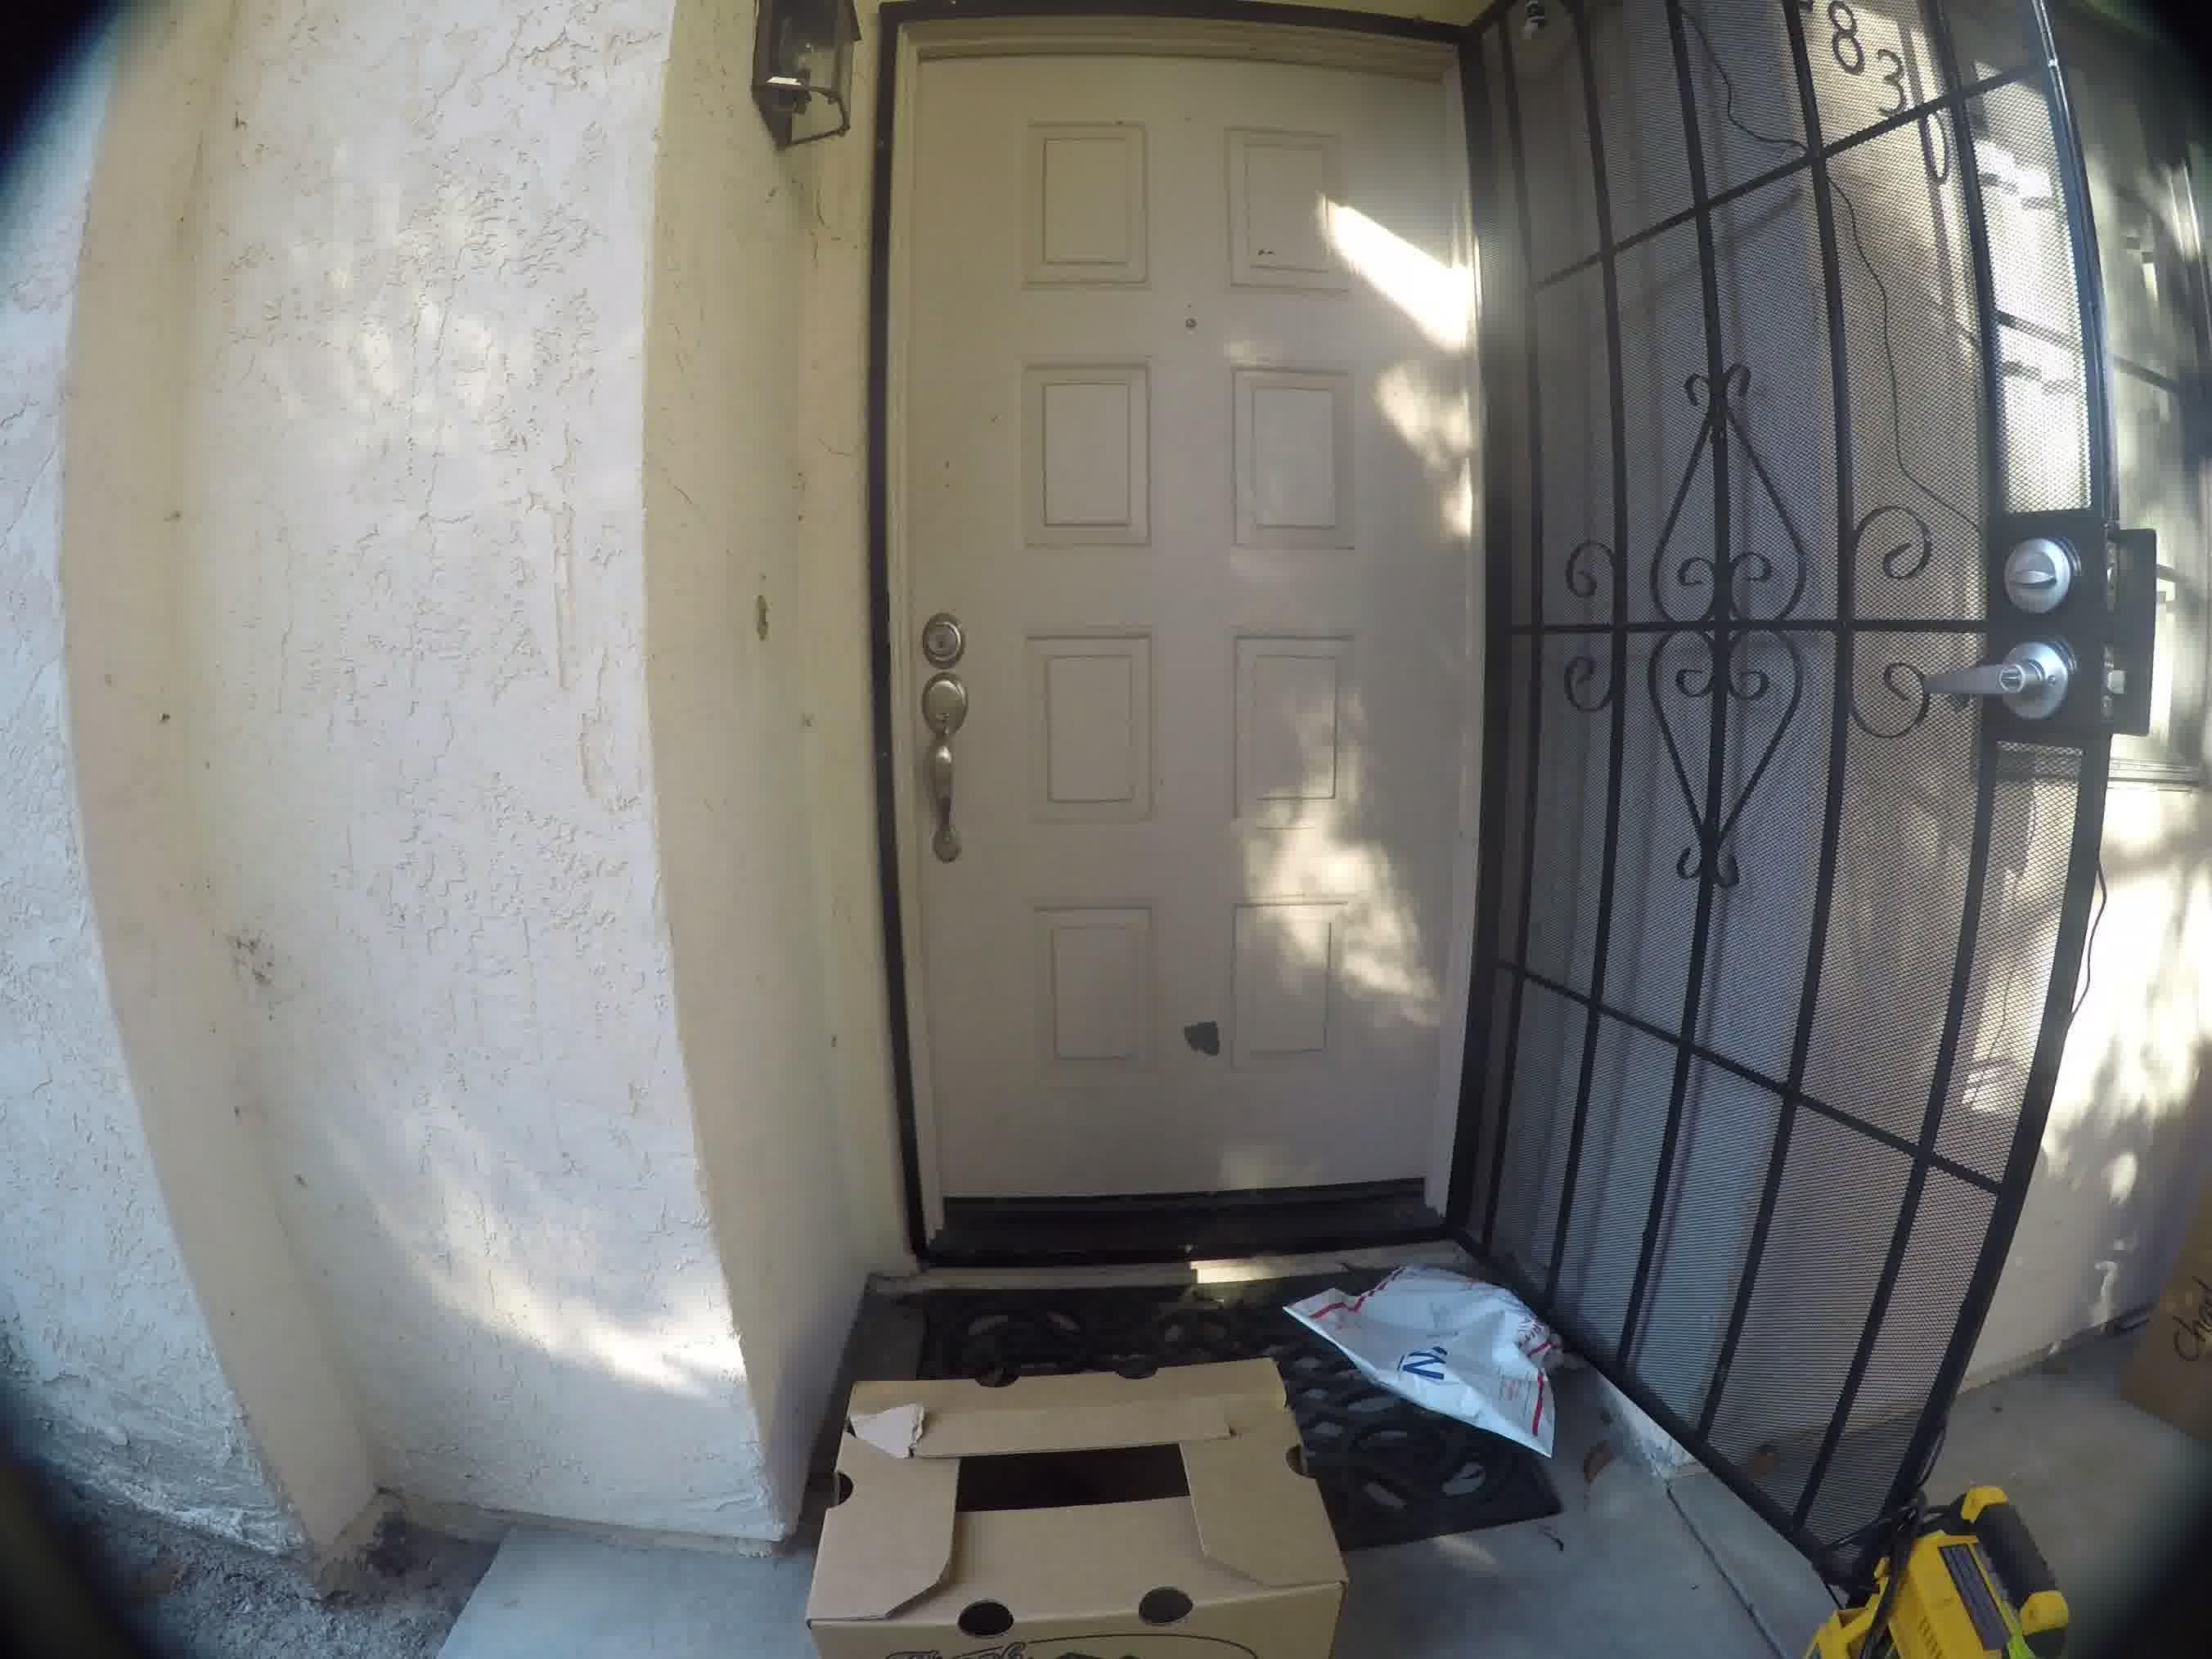box: (824, 1354, 1336, 1652)
plastic_bag: (1282, 1260, 1580, 1429)
